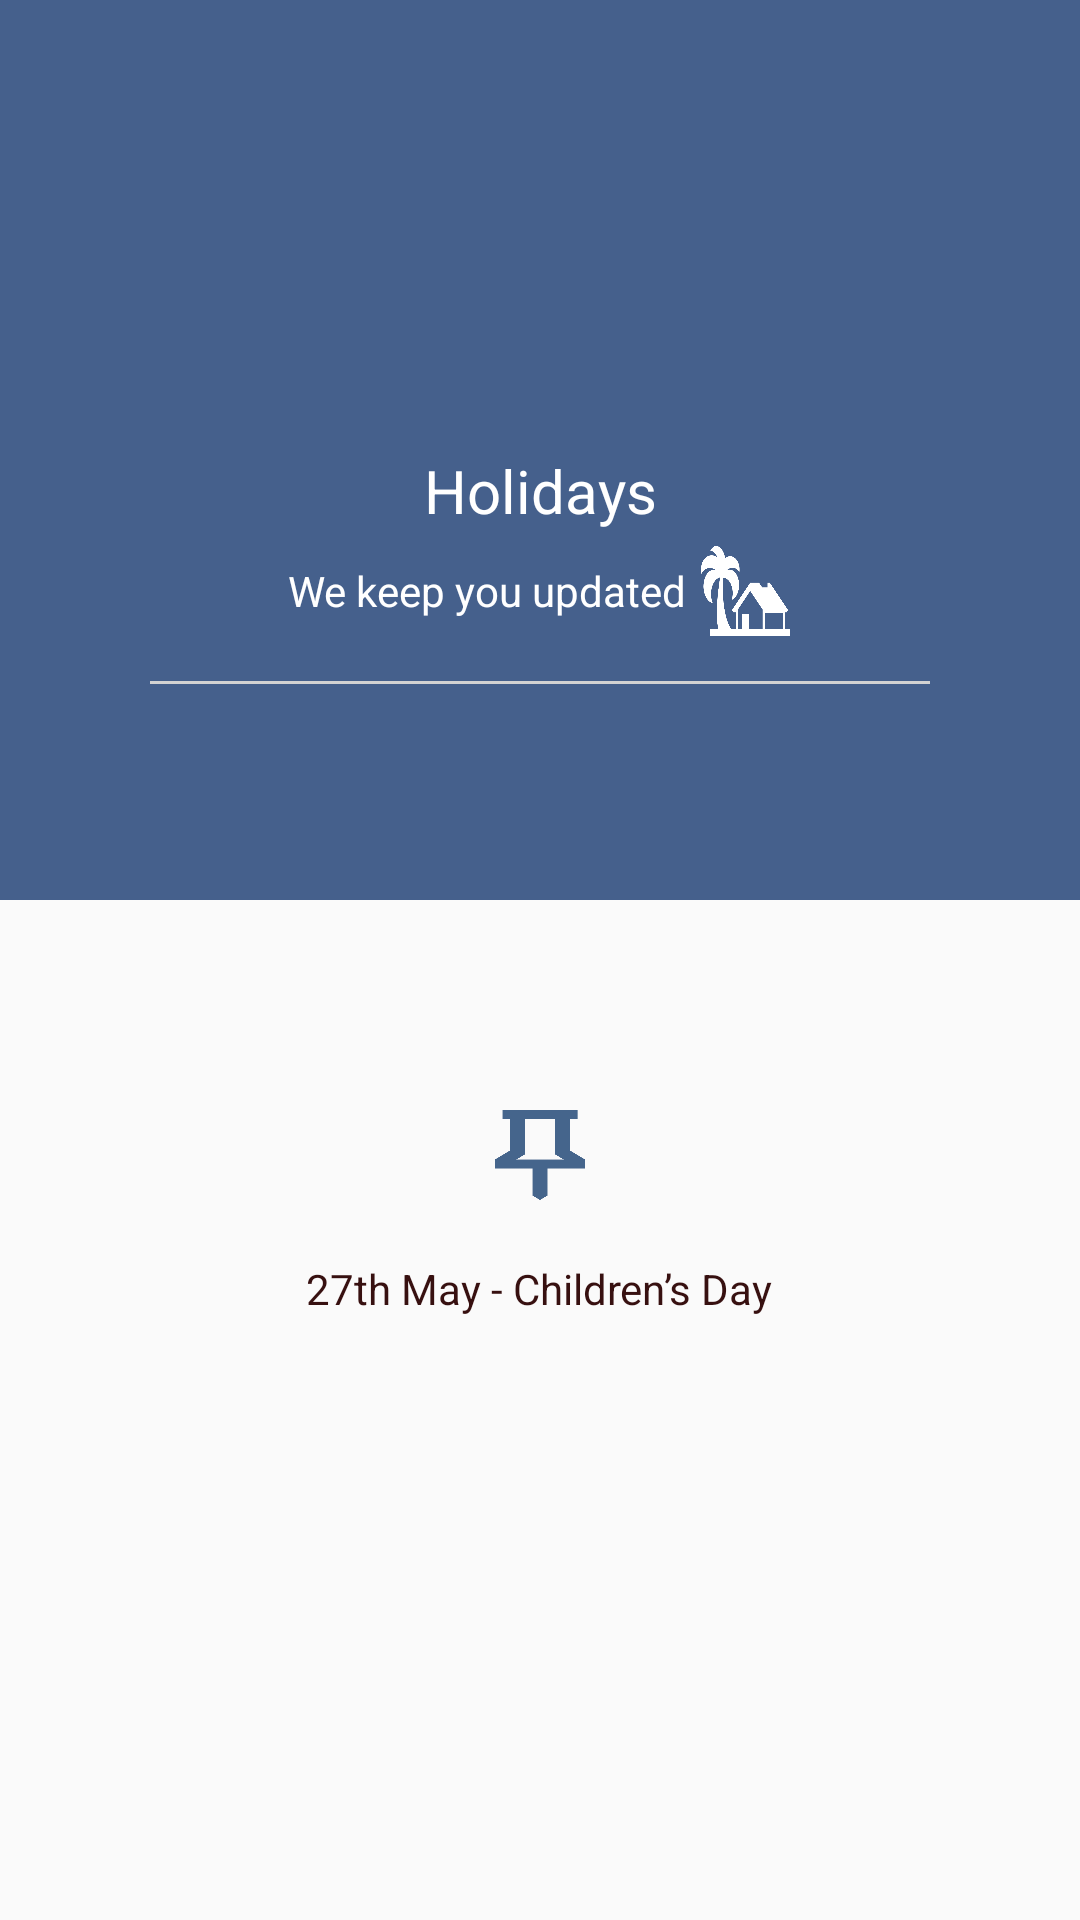

Icon bounding boxes for this 1080 x 1920 phone screenshot, format (x1, y1, x2, y2):
tree ni: (701, 546, 790, 636)
